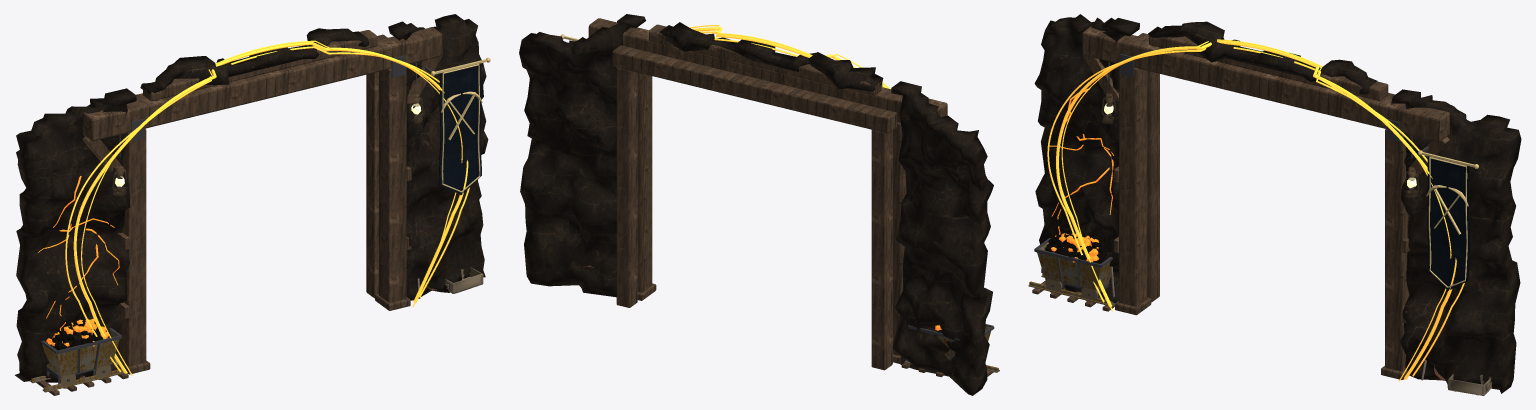
The model's file is fachada_12.glb.
The picture shows the model from 3 angles, left to right: view 1: azimuth 30°, elevation 25°; view 2: azimuth 150°, elevation 25°; view 3: azimuth 330°, elevation 25°; orthographic projection. The views are drawn at different scales.
Parts seen in each view (by area): view 1: F12; view 2: F12; view 3: F12.
Part boxes in pixels (x1,y1,x2,y2): F12: (15, 14, 490, 395); F12: (519, 14, 999, 395); F12: (1028, 14, 1521, 395).
Size of the model in its own units: 12.4 by 7.49 by 1.67.
14 materials, 9 textured.
